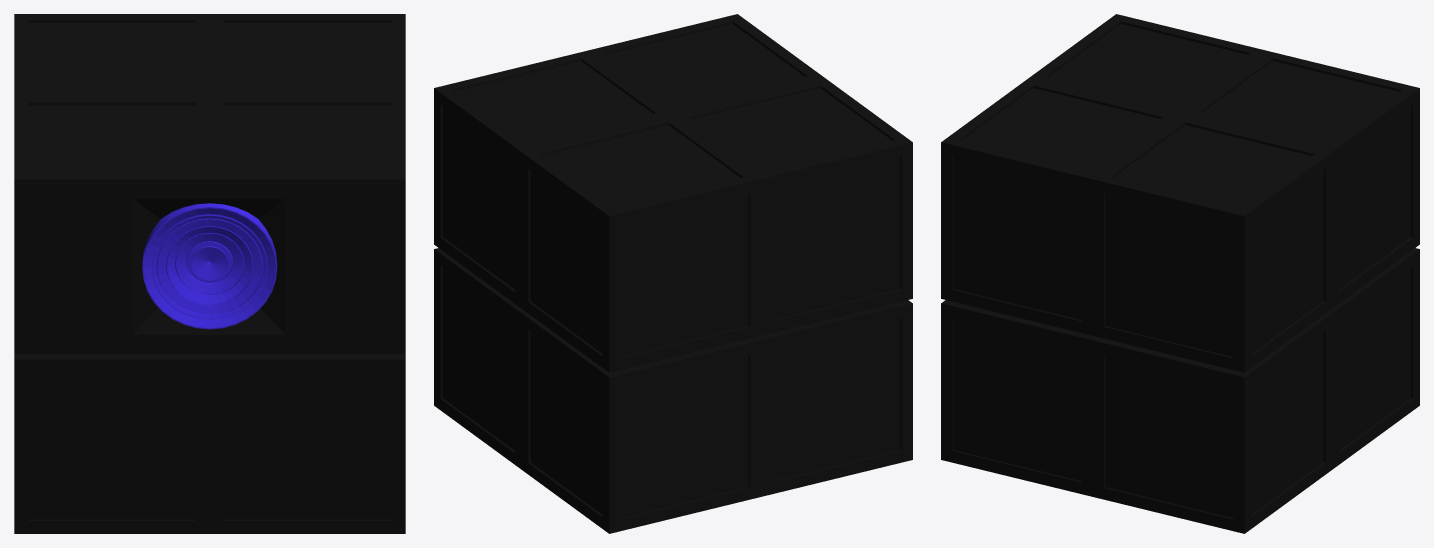
The model's file is Inimigo03_Mapa014_StarWars.FBX.
The picture shows the model from 3 angles, left to right: view 1: azimuth 30°, elevation 25°; view 2: azimuth 150°, elevation 25°; view 3: azimuth 270°, elevation 25°; orthographic projection. The views are drawn at different scales.
Visible parts, largest first — view 1: Box005, Cylinder018; view 2: Box005; view 3: Box005.
Part boxes in pixels (bbox=[...]): Box005: bbox=[14, 14, 405, 533]; Cylinder018: bbox=[142, 203, 277, 329]; Box005: bbox=[434, 14, 912, 533]; Box005: bbox=[941, 14, 1419, 533].
Bounding box in the file's own units: 595 × 435 × 595.
